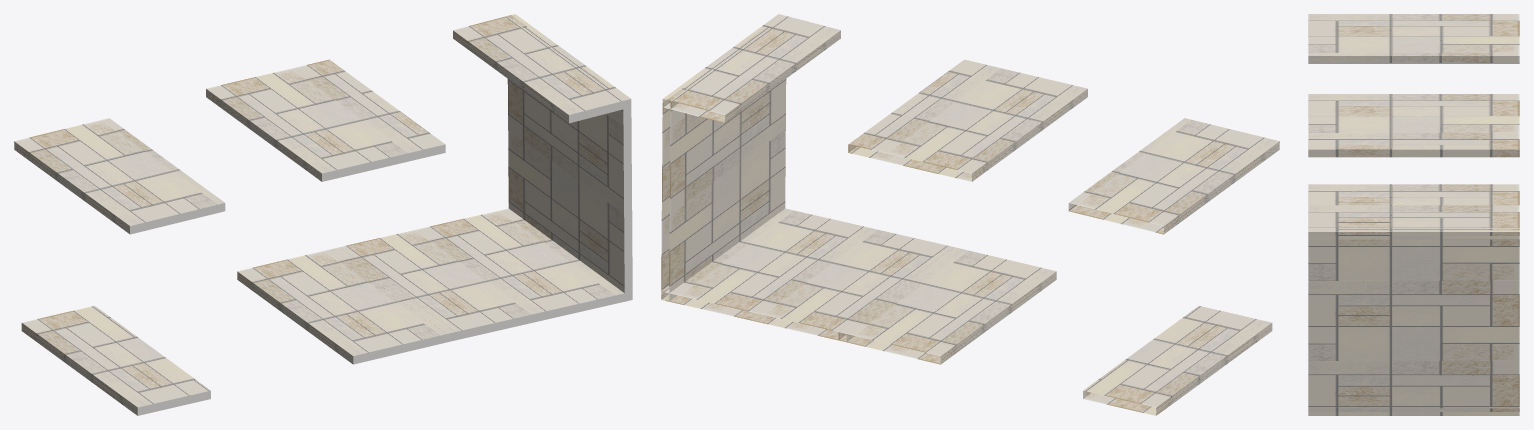
The model's file is wall_2.obj.
3 views of the same model, side by side, from view 1: azimuth 30°, elevation 25°; view 2: azimuth 150°, elevation 25°; view 3: azimuth 270°, elevation 25° (orthographic). The views are drawn at different scales.
Parts seen in each view (by area): view 1: walls; view 2: walls; view 3: walls.
Boxes of the visible parts, x1,y1,x2,y2 form: walls: (14, 14, 632, 415); walls: (661, 14, 1279, 415); walls: (1308, 14, 1519, 415).
Bounding box in the file's own units: 6.26 × 2.4 × 2.5.
1 material, 1 textured.
